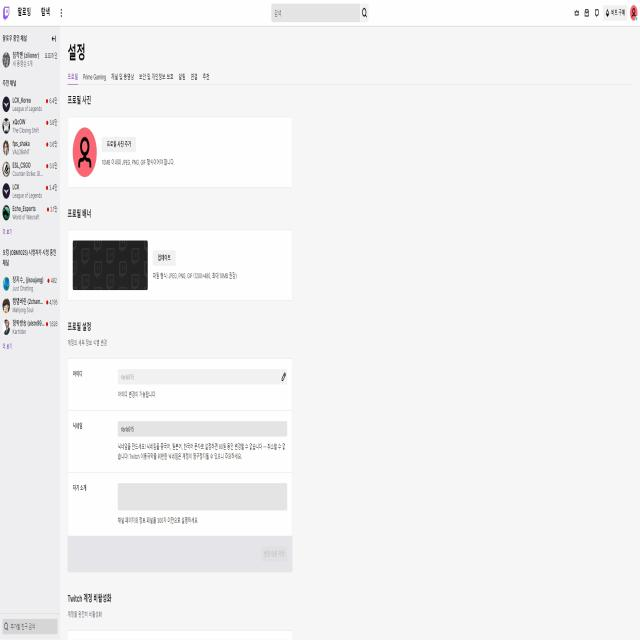menu-bar: (570, 4, 640, 24)
search: (271, 2, 374, 24)
tab-bar: (66, 66, 214, 86), (1, 4, 66, 22)
